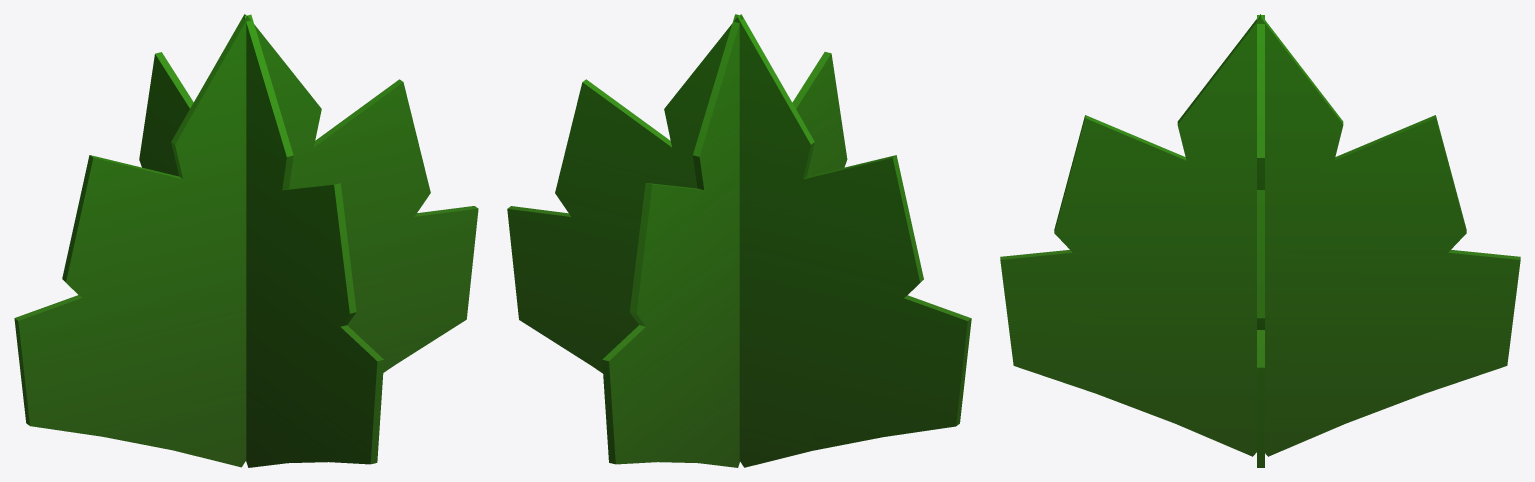
Rendered from Bush.fbx.
The picture shows the model from 3 angles, left to right: view 1: azimuth 30°, elevation 25°; view 2: azimuth 150°, elevation 25°; view 3: azimuth 270°, elevation 25°; orthographic projection. The views are drawn at different scales.
Visible parts, largest first — view 1: Plane.002; view 2: Plane.002; view 3: Plane.002.
Part boxes in pixels (x1,y1,x2,y2): Plane.002: (14,14,478,467); Plane.002: (507,14,971,467); Plane.002: (1000,14,1520,467).
Bounding box in the file's own units: 252 × 235 × 252.
Materials: 1 (1 with a texture image).
